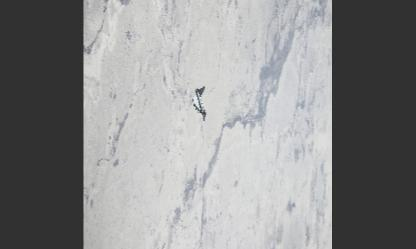E2: (192, 86, 206, 122)
